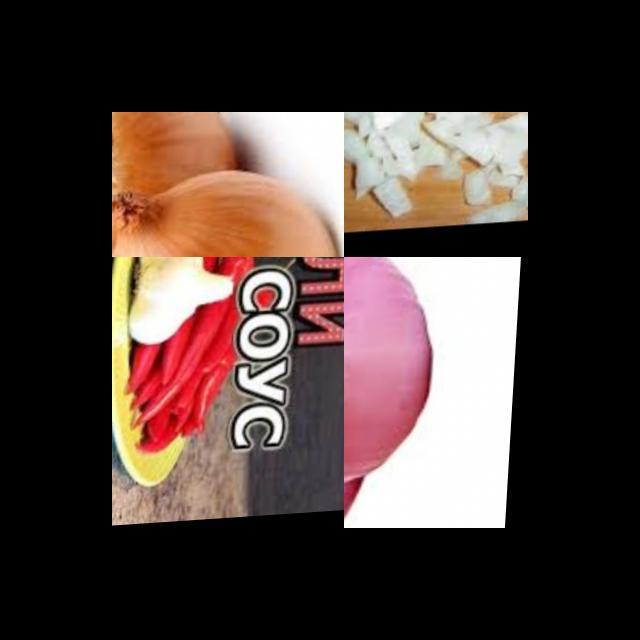garlic: (133, 257, 238, 349)
onion: (344, 112, 528, 233), (344, 257, 434, 503), (112, 167, 344, 257), (112, 112, 248, 257)
